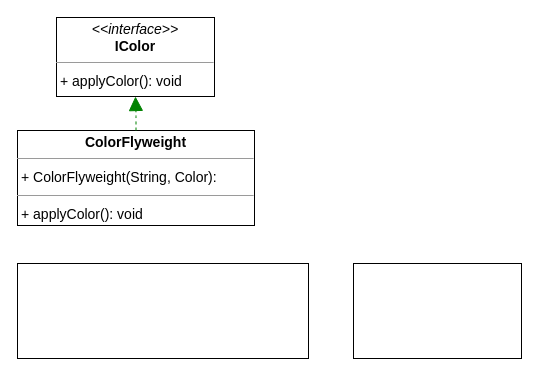
Image size: 539x376. Some labels were removed from this diagram. Each missing label, with the centre of its shape:
ColorFactory + ColorFactory(): + getColor(String, Color): ColorFlyweight: (162,310)
Main + Main(): + main(String[]): void: (437,310)
